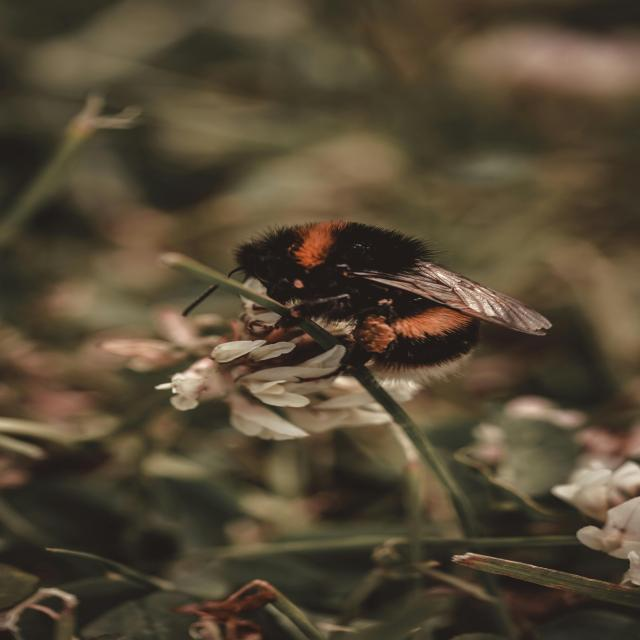bee: (173, 216, 555, 390)
